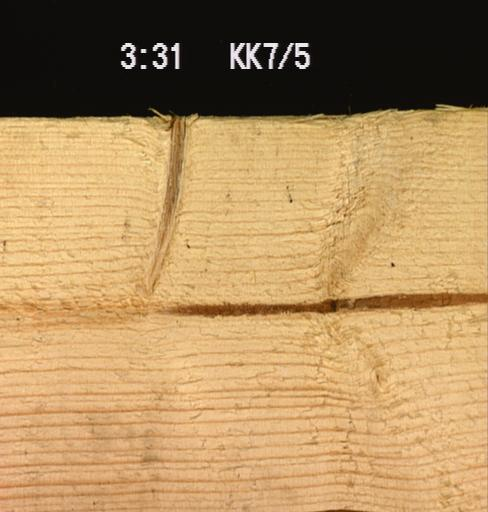small_knot: (381, 249, 407, 272)
